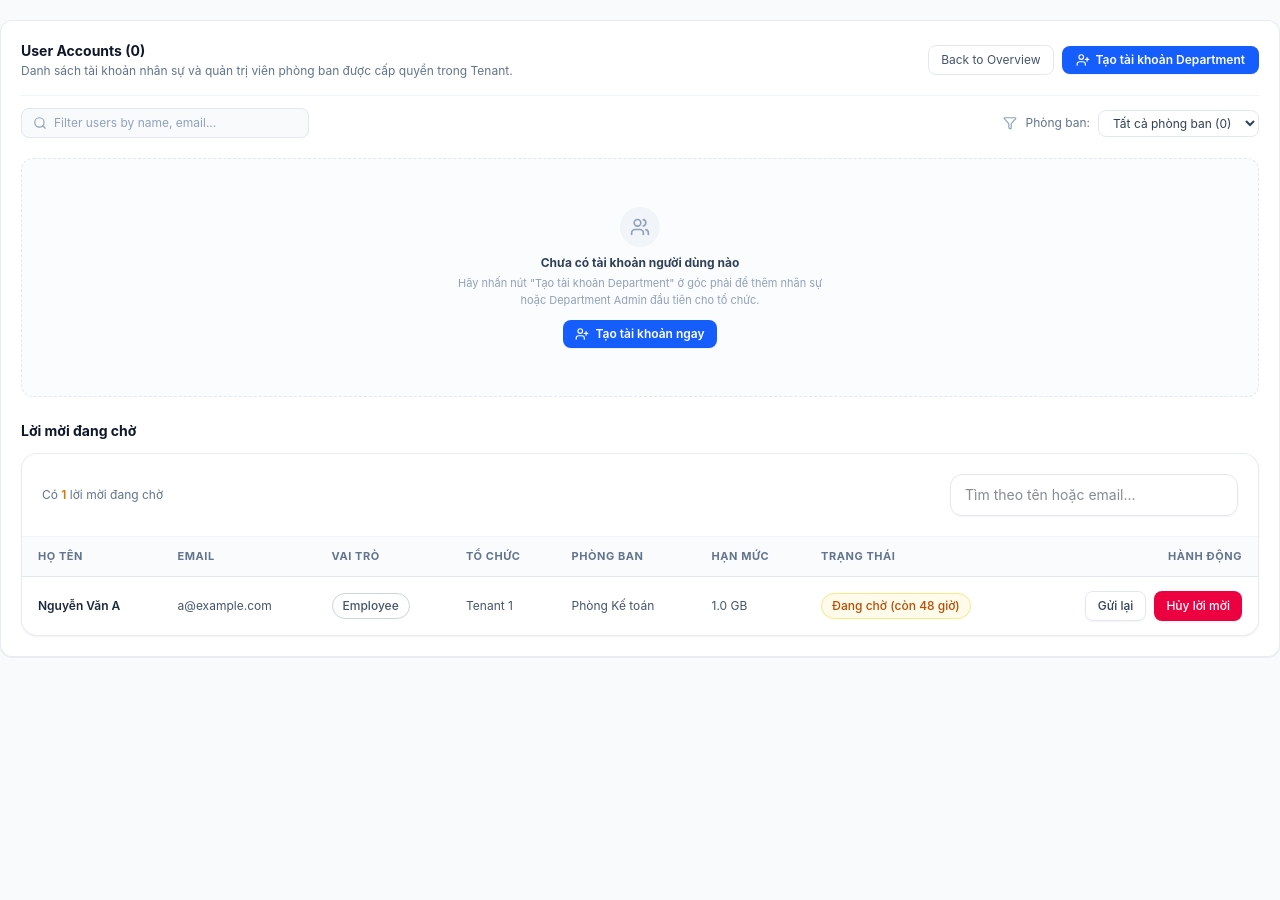
Scenario: pending invitations wired into a portal view › removes the cancelled row from the table after confirming
Check: the text "a@example.com" is shown, box [162,576,316,635]
What coordinates should you click on to do the following:
click the button "Hủy lời mời"
I would click on:
 (1198, 606)
Its box is [1154,591,1242,621].
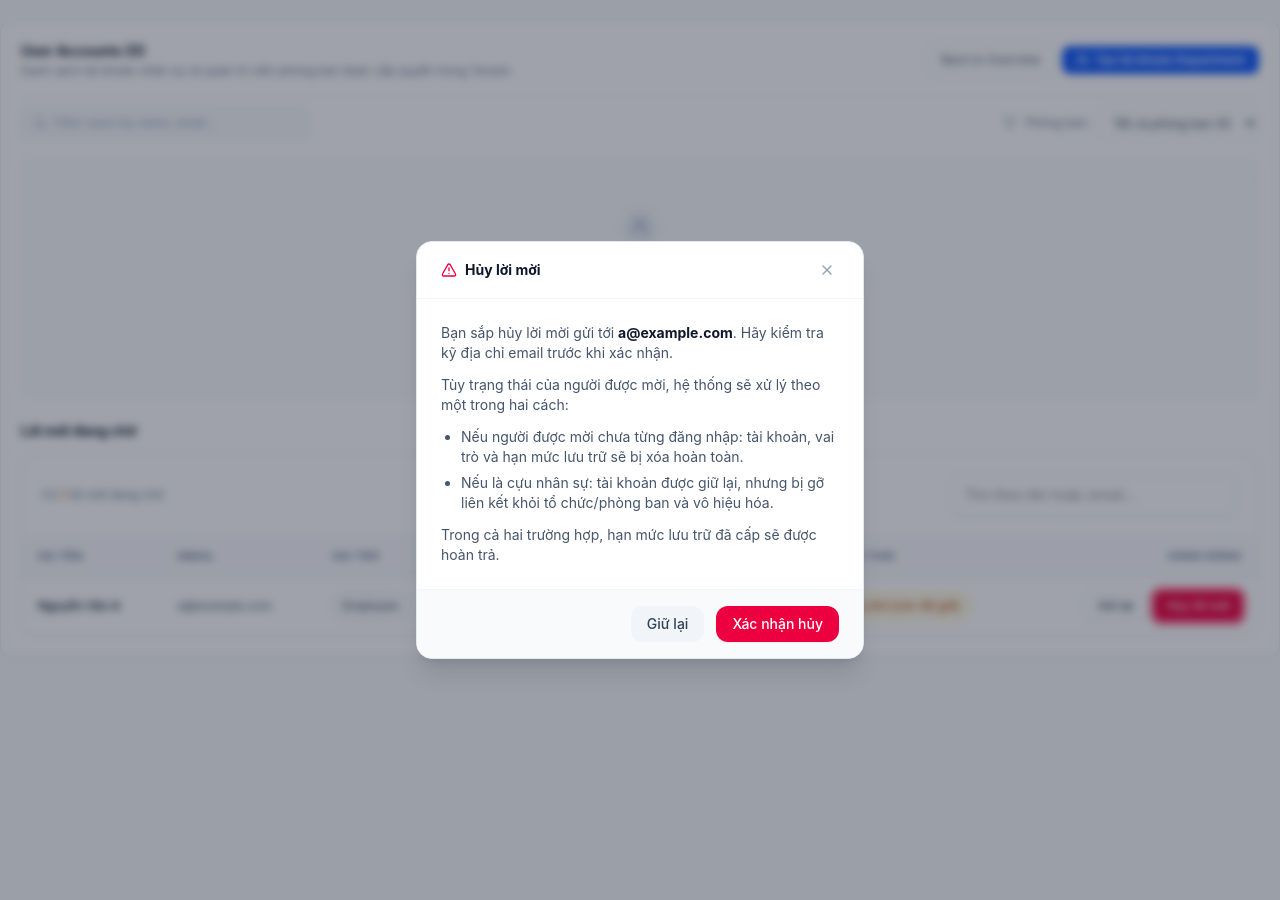
What coordinates should you click on to do the following:
click the button "Xác nhận hủy"
I would click on:
 (778, 624)
Its box is [716,606,839,642].
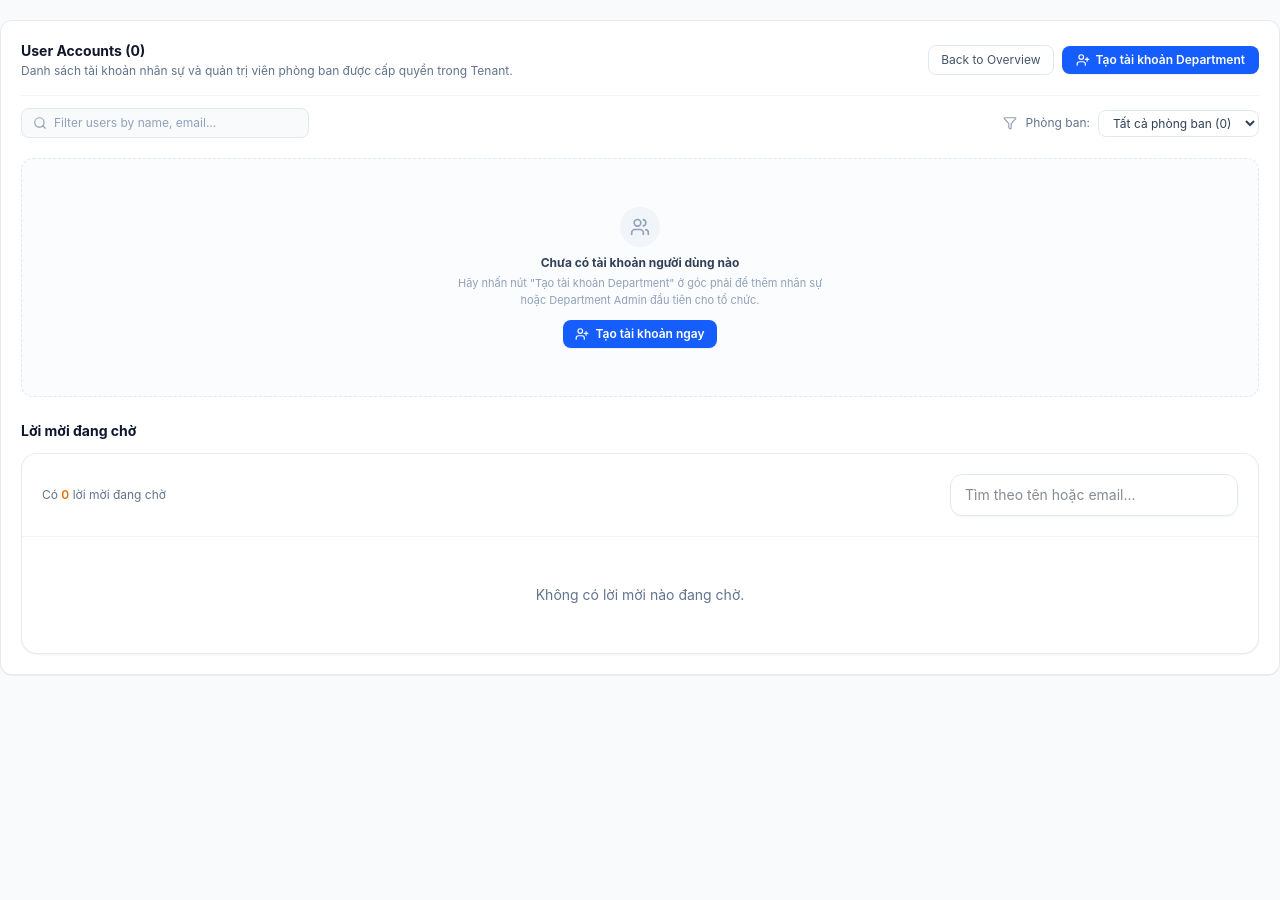
Check: the text "a@example.com" is gone
